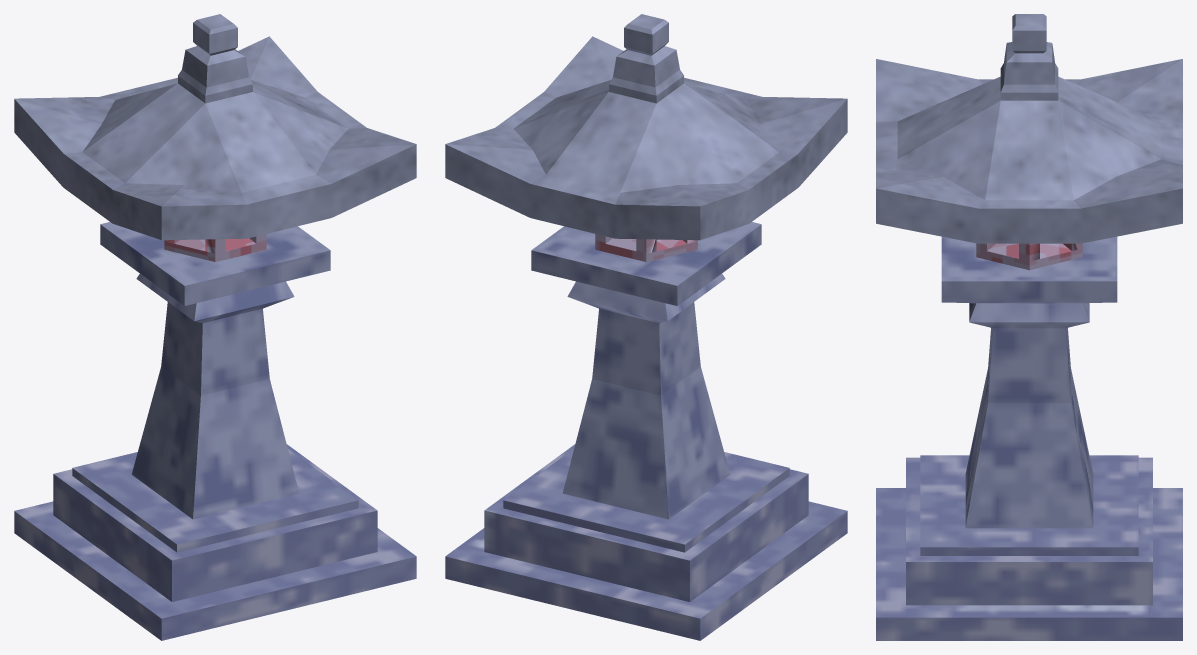
The model's file is Outdoor_Stone_Lantern.fbx.
3 renders of one model, left to right at view 1: azimuth 30°, elevation 25°; view 2: azimuth 150°, elevation 25°; view 3: azimuth 270°, elevation 25°, orthographic. The views are drawn at different scales.
Parts seen in each view (by area): view 1: Lantern_Top, Lantern_Base, Lantern_Middle, Fire_Holder; view 2: Lantern_Top, Lantern_Base, Lantern_Middle, Fire_Holder; view 3: Lantern_Top, Lantern_Base, Lantern_Middle, Fire_Holder.
Part boxes in pixels (box(x1,y1,x2,y2)): Lantern_Top: box(14, 14, 416, 240); Lantern_Base: box(14, 444, 416, 640); Lantern_Middle: box(100, 222, 330, 519); Fire_Holder: box(164, 234, 266, 261); Lantern_Top: box(445, 14, 847, 240); Lantern_Base: box(445, 444, 847, 640); Lantern_Middle: box(531, 222, 761, 519); Fire_Holder: box(595, 234, 697, 261); Lantern_Top: box(876, 14, 1182, 243); Lantern_Base: box(876, 455, 1182, 640); Lantern_Middle: box(941, 236, 1117, 528); Fire_Holder: box(976, 243, 1082, 270).
Size of the model in its own units: 60 by 120 by 60.
